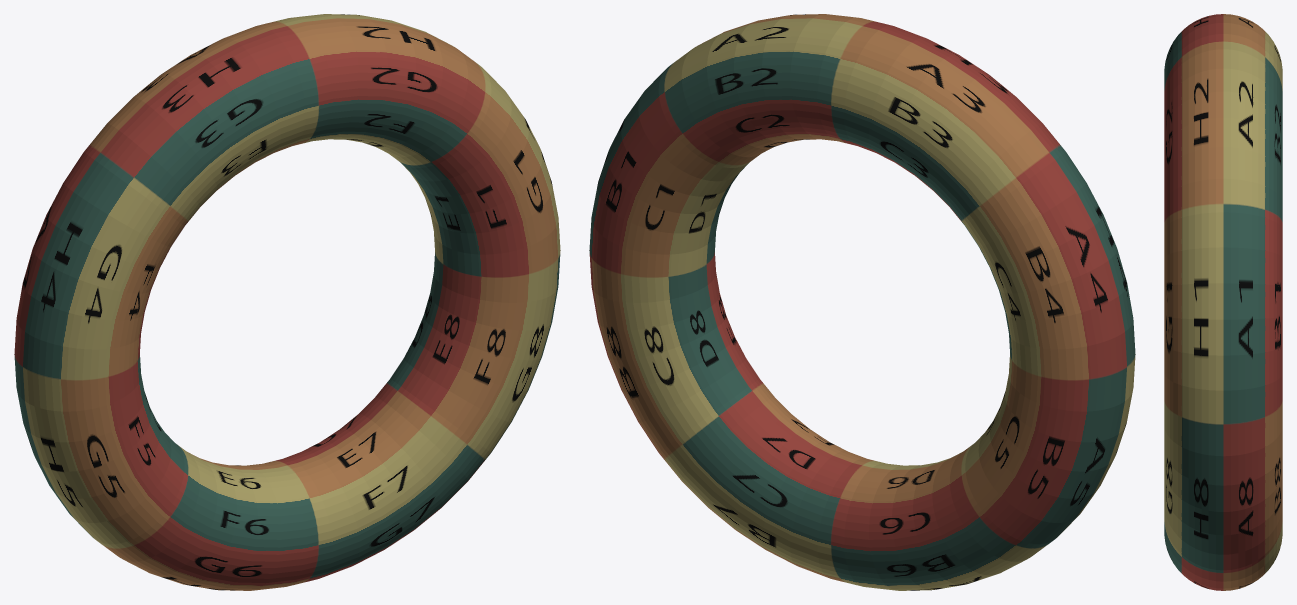
The model's file is texture_torus_R9_r8.glb.
3 views of the same model, side by side, from view 1: azimuth 30°, elevation 25°; view 2: azimuth 150°, elevation 25°; view 3: azimuth 270°, elevation 25° (orthographic). The views are drawn at different scales.
Parts seen in each view (by area): view 1: world; view 2: world; view 3: world.
Part boxes in pixels (x1,y1,x2,y2): world: (14,14,560,590); world: (589,14,1135,590); world: (1164,14,1282,590).
Size of the model in its own units: 20.13 by 20.09 by 4.13.
Materials: 1 (1 with a texture image).
